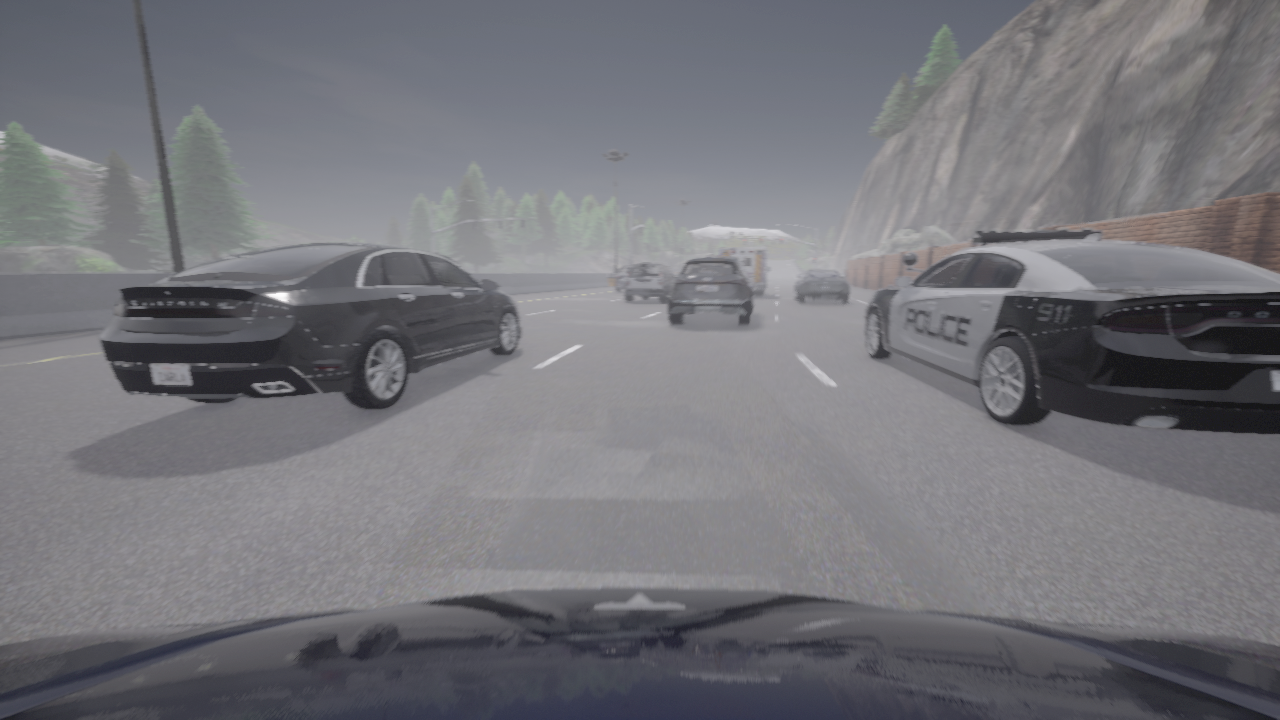cyclist: (0, 588, 1279, 719), (865, 229, 1279, 435), (99, 242, 520, 409), (668, 255, 755, 325), (719, 248, 770, 296), (624, 263, 677, 302), (795, 269, 850, 303), (615, 266, 634, 291)
